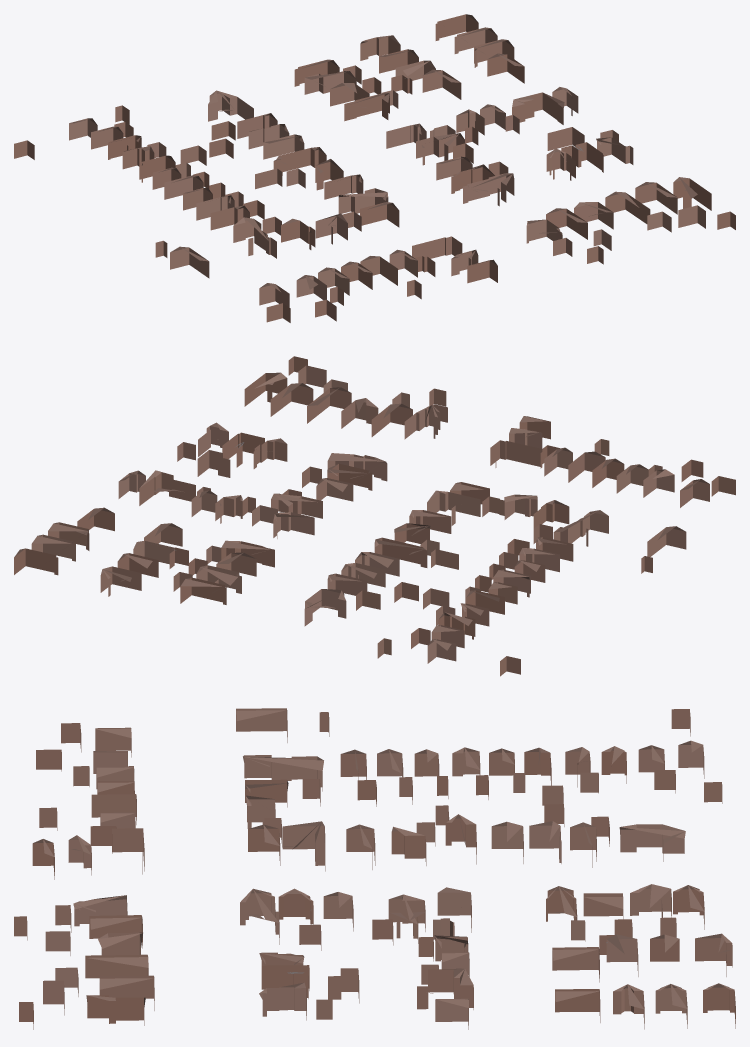
Rendered from c_1643_17826_buildings_residential.glb.
The picture shows the model from 3 angles, top to bottom: view 1: azimuth 30°, elevation 25°; view 2: azimuth 150°, elevation 25°; view 3: azimuth 270°, elevation 25°; orthographic projection. The views are drawn at different scales.
Visible parts, largest first — view 1: geometry_0; view 2: geometry_0; view 3: geometry_0.
Boxes of the visible parts, left/top/right/bottom form: geometry_0: left=14, top=14, right=735, bottom=322; geometry_0: left=14, top=356, right=735, bottom=676; geometry_0: left=14, top=708, right=735, bottom=1029.
Bounding box in the file's own units: 262 × 10.94 × 263.
